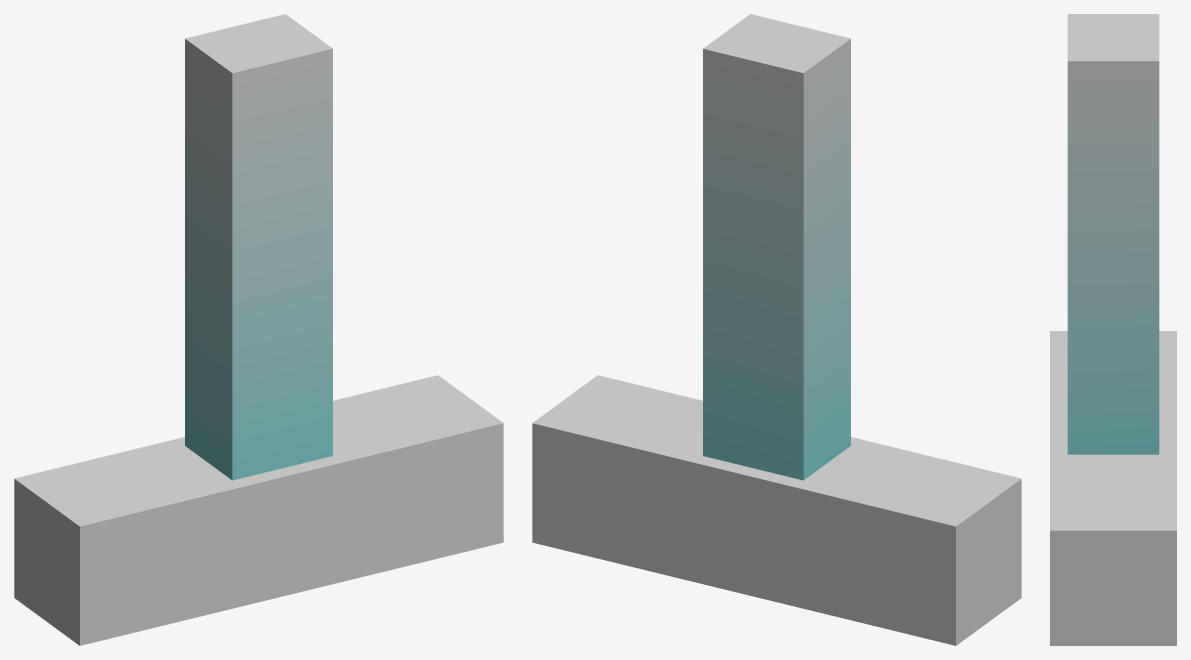
3 renders of one model, left to right at view 1: azimuth 30°, elevation 25°; view 2: azimuth 150°, elevation 25°; view 3: azimuth 270°, elevation 25°, orthographic. The views are drawn at different scales.
Parts seen in each view (by area): view 1: base, post; view 2: base, post; view 3: post, base.
Part boxes in pixels (x1=…): base: x1=14, y1=375, x2=503, y2=645; post: x1=185, y1=14, x2=332, y2=480; base: x1=532, y1=375, x2=1021, y2=645; post: x1=703, y1=14, x2=850, y2=480; post: x1=1067, y1=14, x2=1159, y2=454; base: x1=1050, y1=331, x2=1176, y2=645.
Bounding box in the file's own units: 0.2527 × 0.3 × 0.0678.
